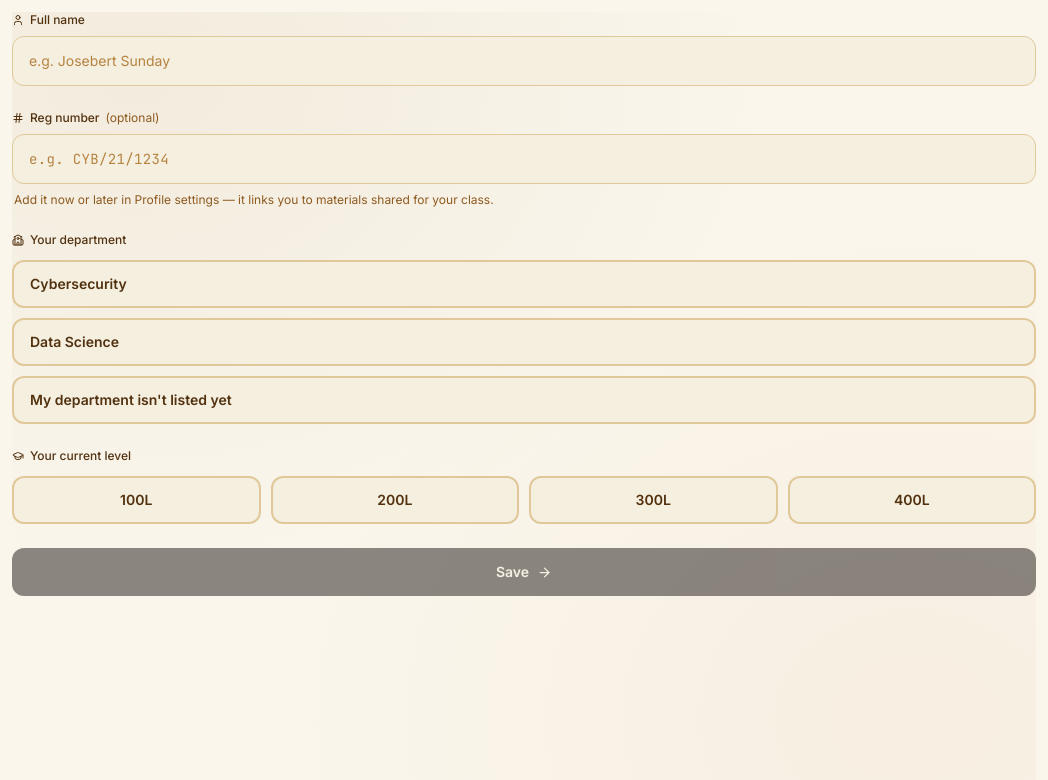
ProfileForm — optional reg number › does not require reg number for the submit button to become enabled
The image size is (1048, 780).
Step 1. Type "Ada Obi" into the field labelled "Full name" → {"x": 524, "y": 61}, box [12,36,1036,86]
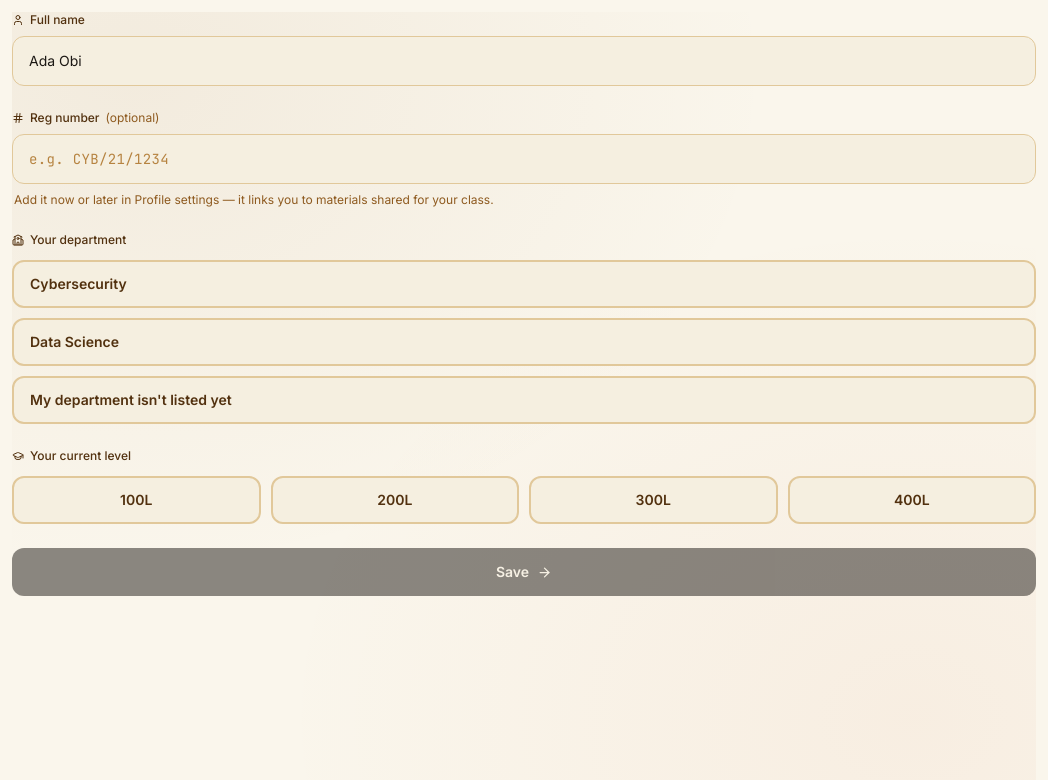
Step 2. Click the button "Cybersecurity" → {"x": 78, "y": 284}, box [12,260,1036,308]
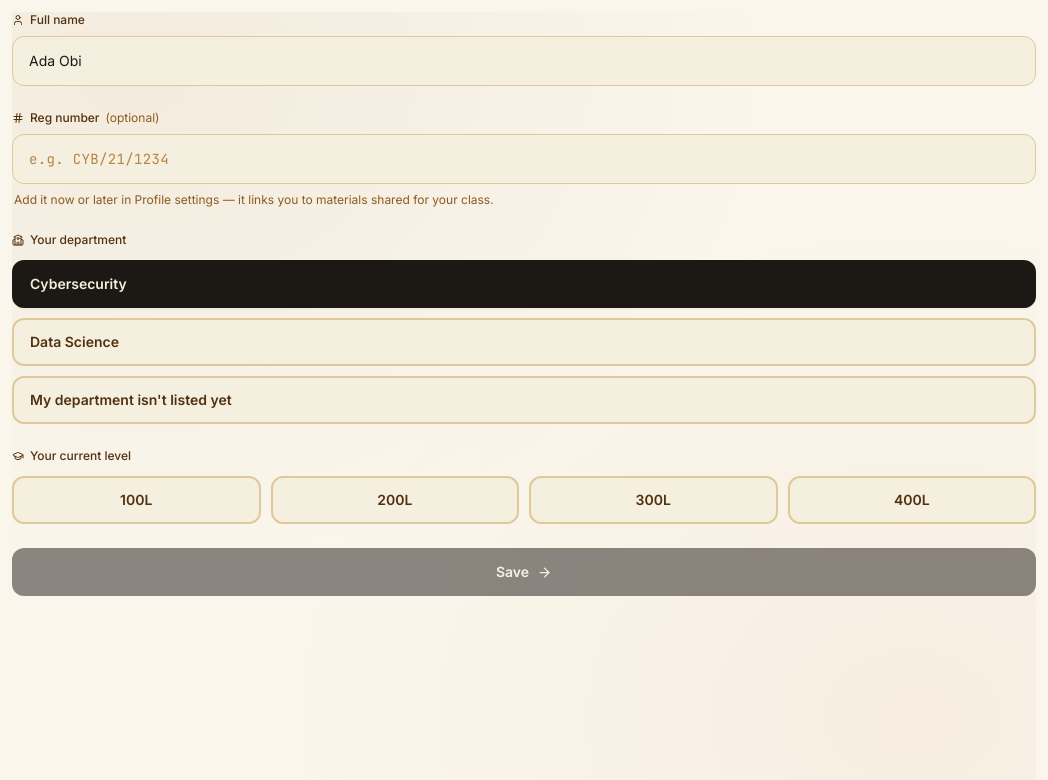
Step 3. Click the button "100L" → {"x": 136, "y": 500}, box [12,476,260,524]
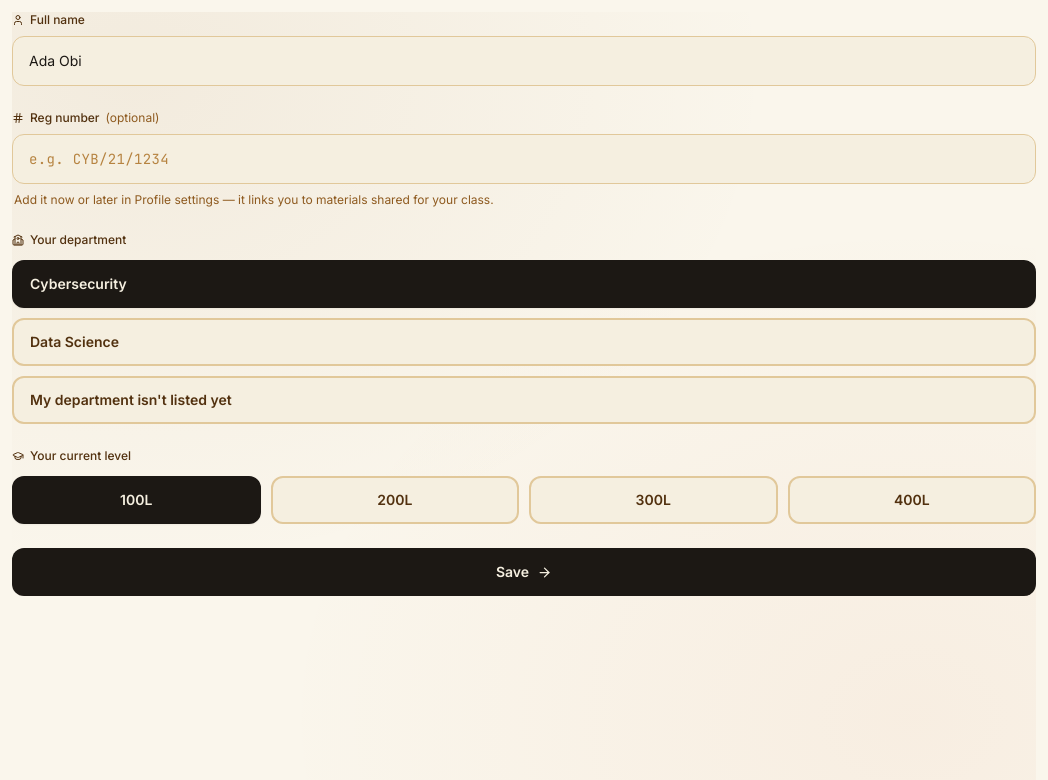
Check: the button "Save" is enabled, box [12,548,1036,596]
